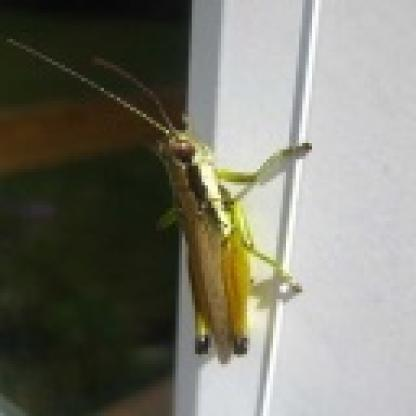grasshopper: (52, 56, 304, 363)
